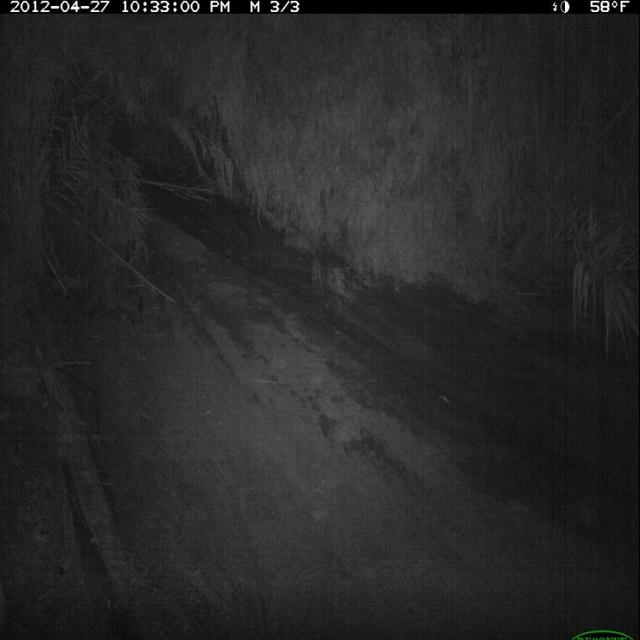opossum: (280, 226, 331, 267)
